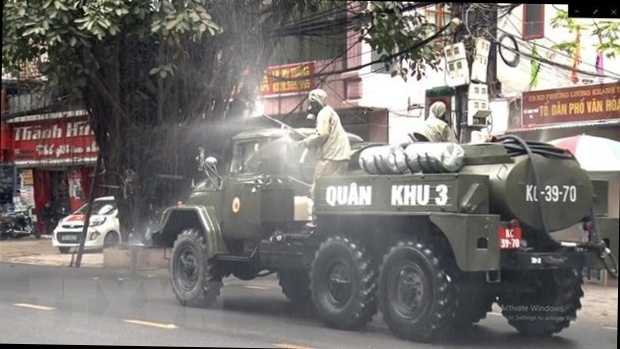plate: (496, 225, 522, 250)
